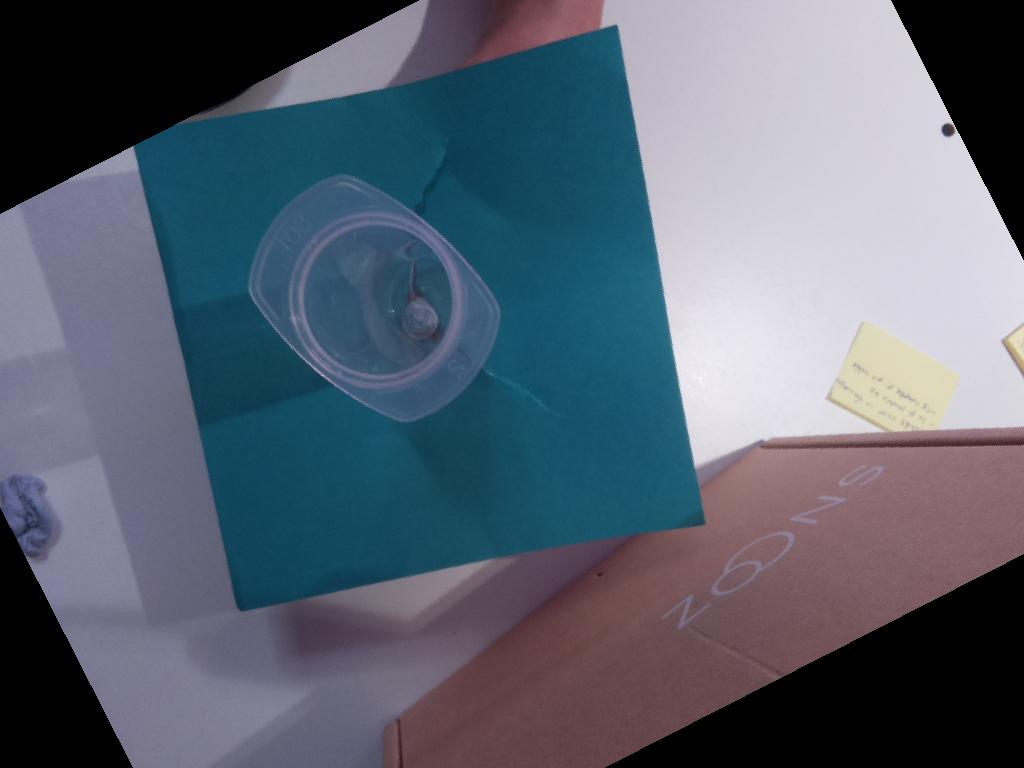clean: (246, 175, 501, 424)
